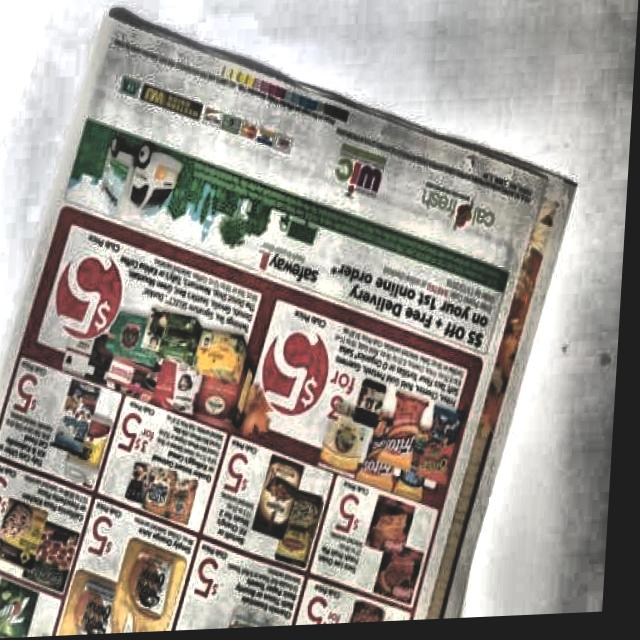Paper: (0, 0, 589, 638)
